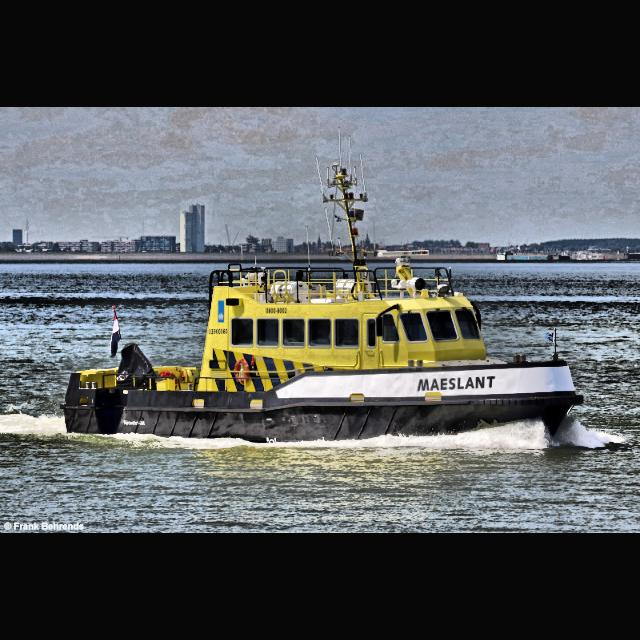patrol_vessel: (59, 239, 586, 451)
